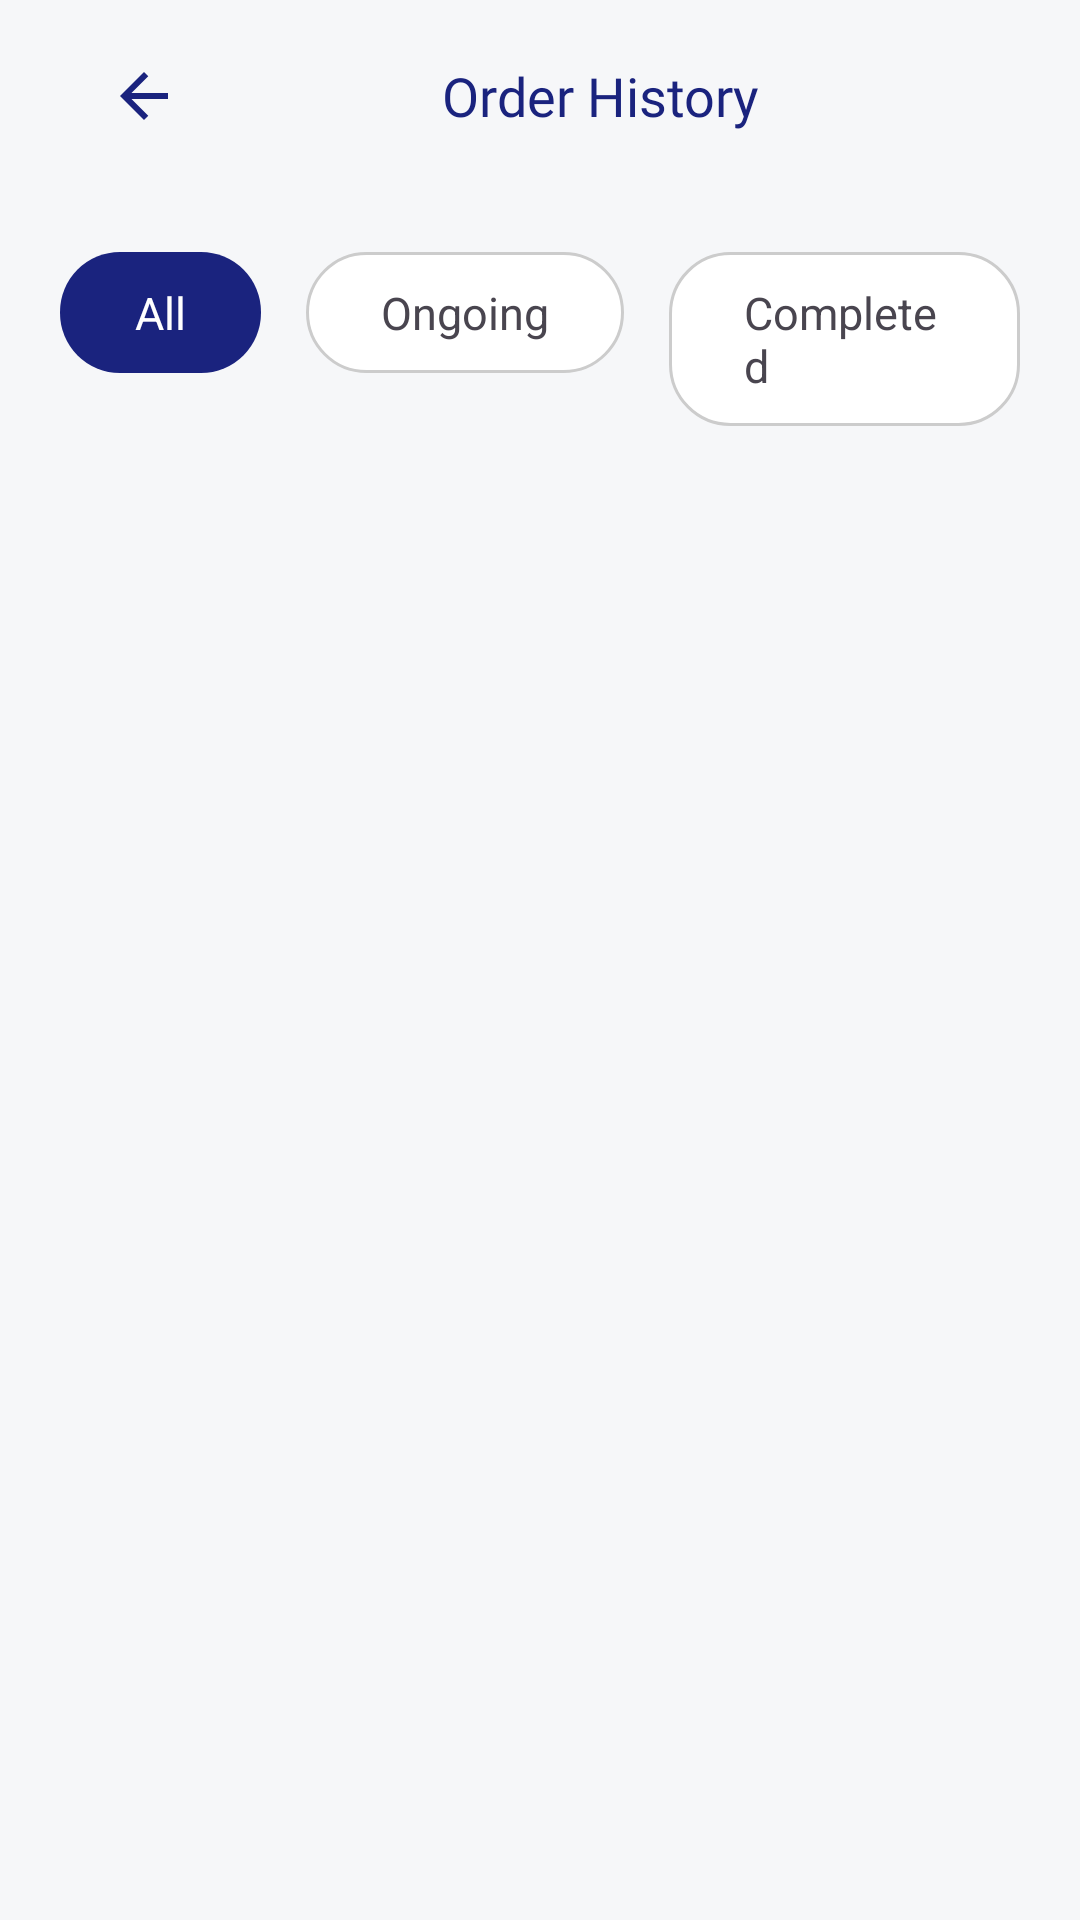

Screen size 1080*1920. Icon name, then its center in pixels as (x,y):
arrow back: (144,96)
